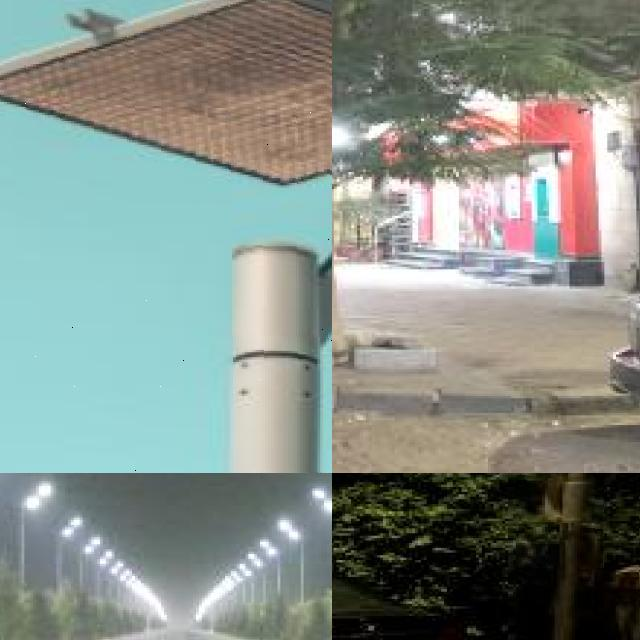street light: (0, 0, 332, 473), (508, 473, 604, 640), (18, 480, 52, 640), (278, 518, 305, 630), (312, 483, 332, 629), (56, 513, 82, 621), (260, 537, 282, 625)
